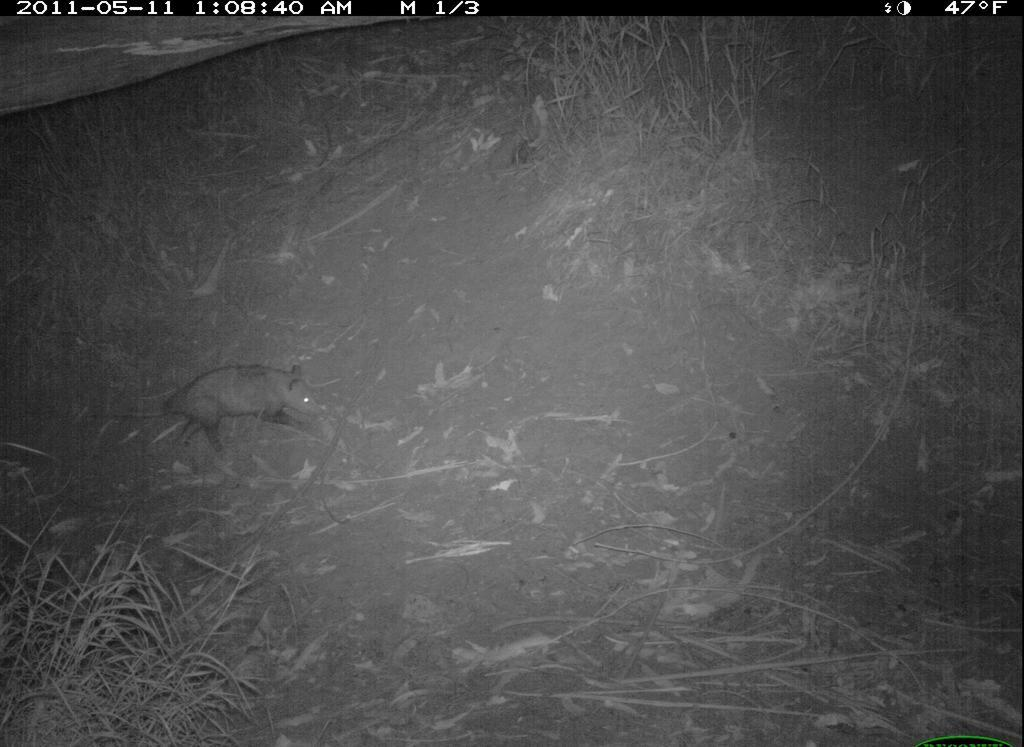opossum: (92, 360, 326, 458)
